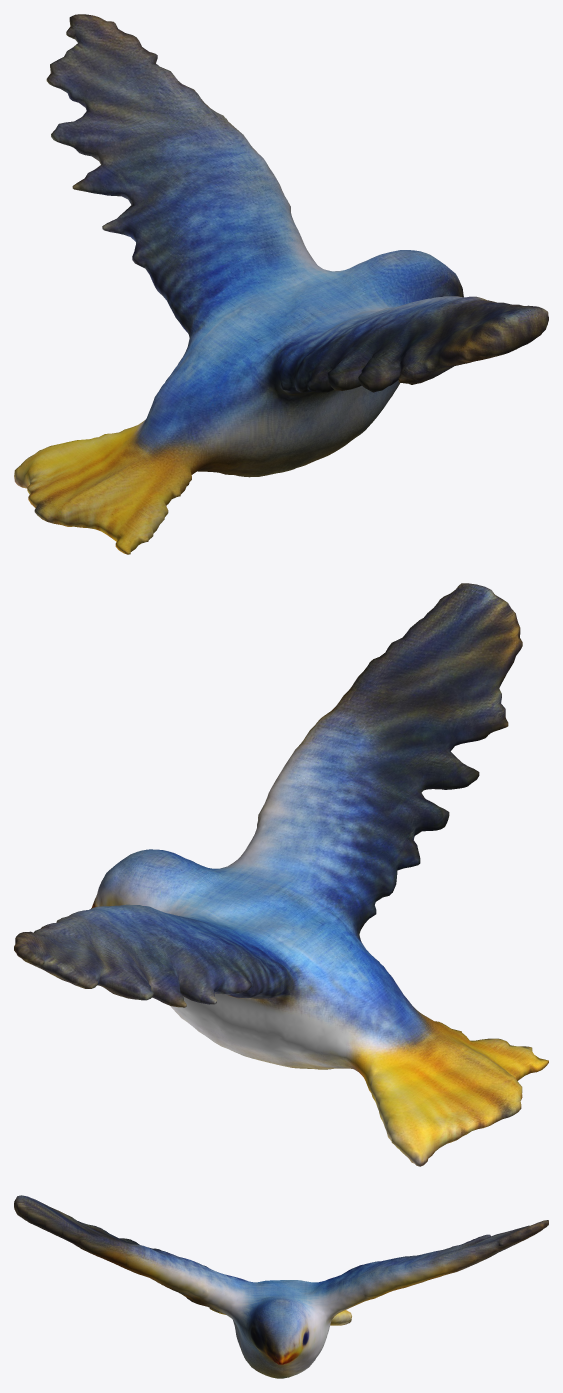
Rendered from Flamingo.glb.
The picture shows the model from 3 angles, top to bottom: view 1: azimuth 30°, elevation 25°; view 2: azimuth 150°, elevation 25°; view 3: azimuth 270°, elevation 25°; orthographic projection. The views are drawn at different scales.
Visible parts, largest first — view 1: Mesh1; view 2: Mesh1; view 3: Mesh1.
Boxes of the visible parts, x1,y1,x2,y2 form: Mesh1: (14, 14, 548, 554); Mesh1: (14, 583, 548, 1166); Mesh1: (14, 1195, 548, 1378).
Bounding box in the file's own units: 0.6437 × 0.4675 × 1.2.
Materials: 1 (1 with a texture image).
